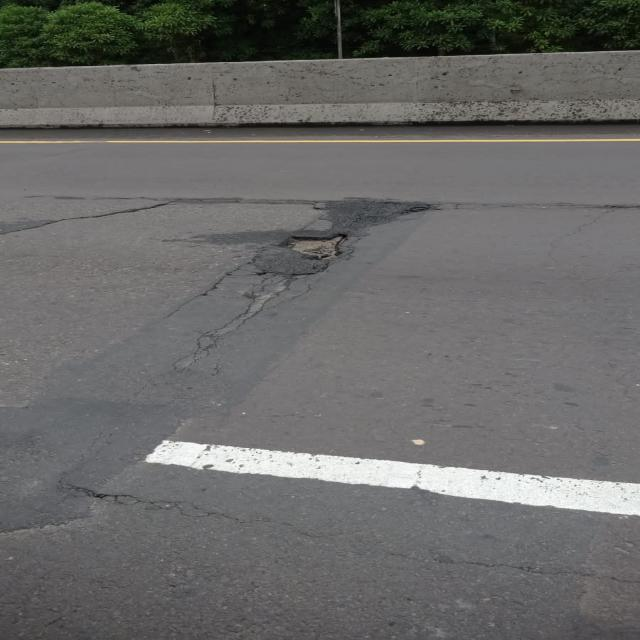Buraco: (275, 231, 350, 263)
